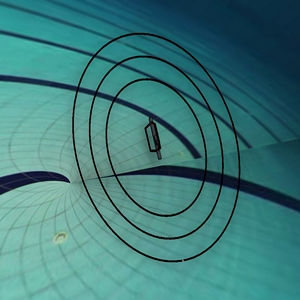circle: (54, 20, 265, 271)
submarine: (136, 113, 172, 161)
